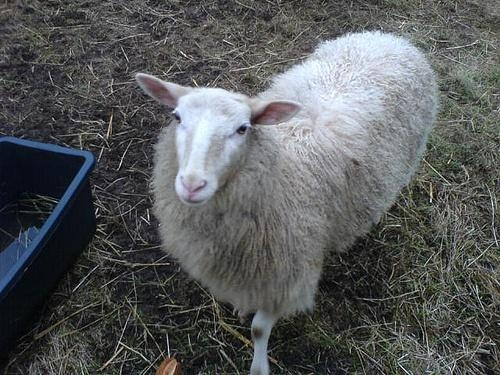sheep: (134, 30, 437, 375)
